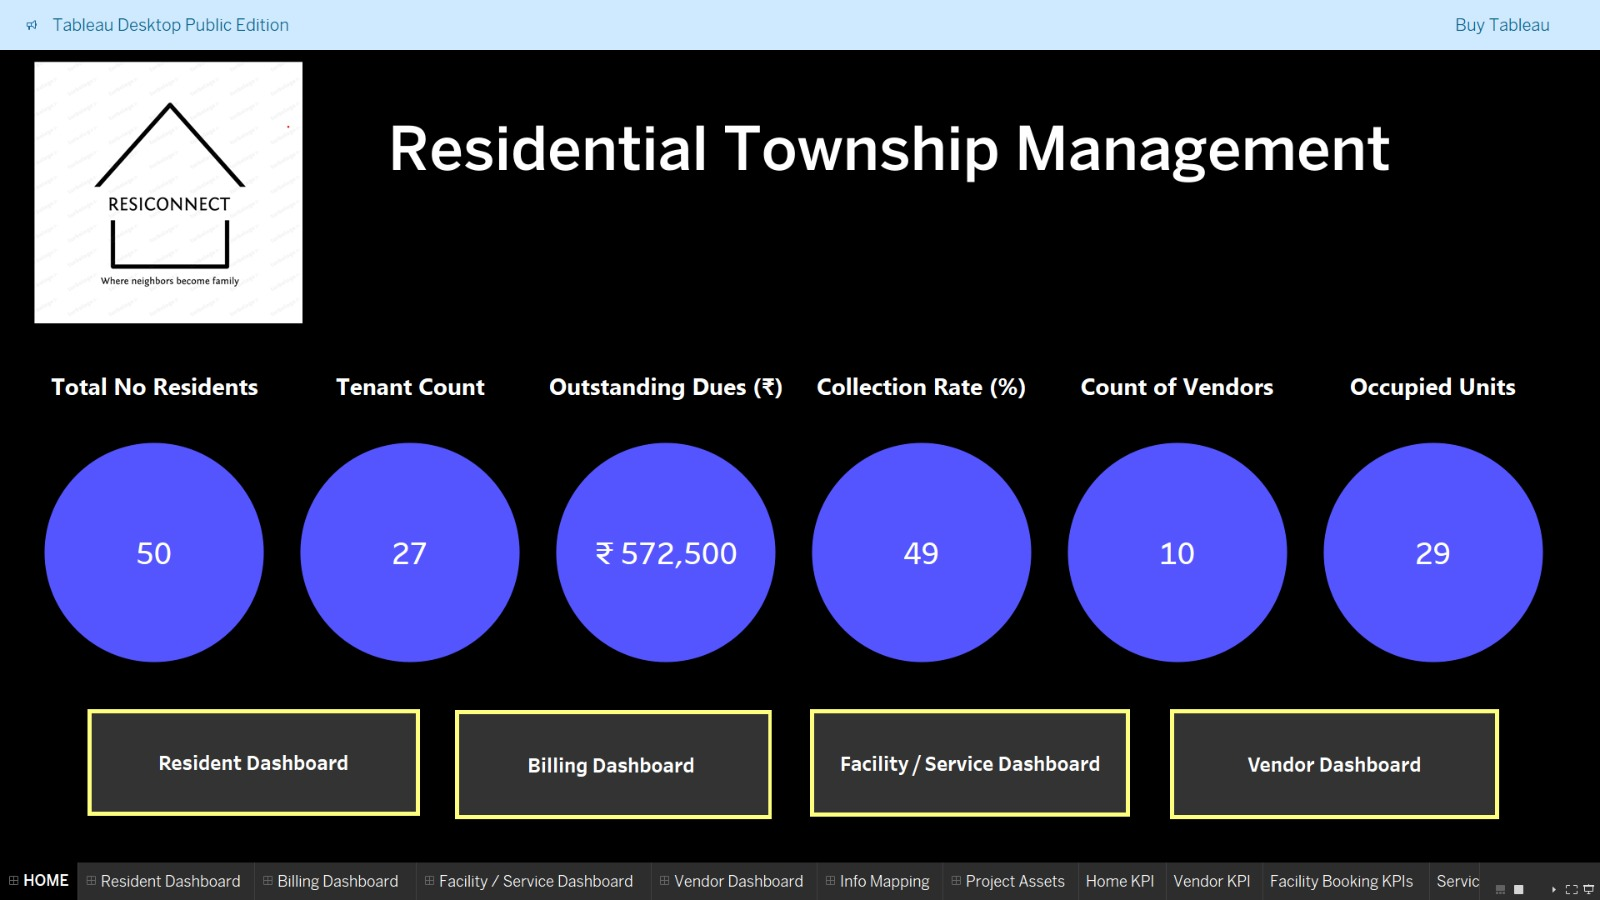

The page's visual inventory and layout, read from the dashboard file:
{"tool":"tableau","page":{"name":"HOME","canvas":[1000,1000],"units":"permille","ordinal":2},"visuals":[{"type":"image","param":"C:/Users/suraj/OneDrive/Desktop/Residential Project/ResiConnect.png","box":[21.2,14.8,175.8,321.7]},{"type":"title","box":[7.5,16.1,985,288.2]},{"type":"text","box":[37,80.4,61.6,40.2]},{"type":"worksheet","title":"Home KPI","mark":"Shape","box":[16.8,361.9,958.9,410.2]},{"type":"dashboard-object","box":[54.9,811,207.6,131.4]},{"type":"dashboard-object","box":[506.2,811,200.1,132.7]},{"type":"dashboard-object","box":[731.3,811,205.7,135.4]},{"type":"dashboard-object","box":[284.3,812.3,198.2,134.1]}]}

Visuals, with their boxes on the dashboard's canvas, which has no fixed pixel size, in thousandths of its width and height (x1, y1, x2, y2). These are canvas units, not pixel positions in the 1600x900 screenshot, which may show the page scaled, cropped or inside an application window:
image: bbox=[21, 15, 197, 336]
title: bbox=[8, 16, 992, 304]
text: bbox=[37, 80, 99, 121]
"Home KPI" worksheet (Shape marks): bbox=[17, 362, 976, 772]
dashboard-object: bbox=[55, 811, 262, 942]
dashboard-object: bbox=[506, 811, 706, 944]
dashboard-object: bbox=[731, 811, 937, 946]
dashboard-object: bbox=[284, 812, 482, 946]
